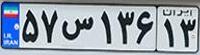character: (60, 9, 97, 45), (115, 8, 135, 47), (20, 7, 40, 45), (136, 8, 155, 48), (40, 8, 60, 45), (97, 8, 115, 46), (178, 17, 197, 49), (162, 17, 177, 49)
